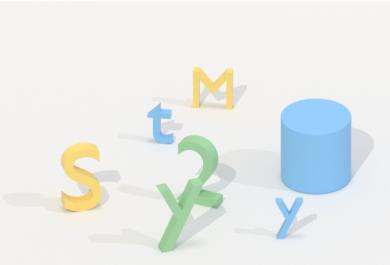0-KhoiTru: (277, 95, 357, 198)
2: (175, 130, 226, 212)
M: (187, 61, 239, 114)
S: (56, 139, 108, 215)
t: (144, 99, 177, 147)
y: (156, 178, 205, 256), (272, 192, 306, 243)
